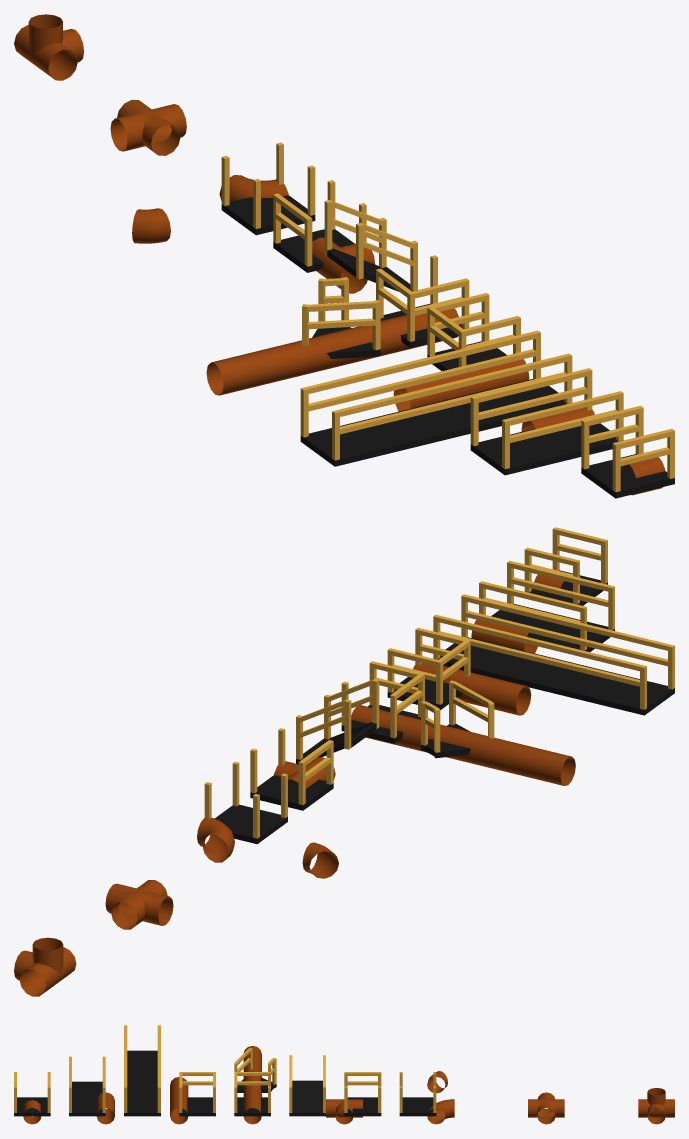
Rendered from ExampleAssets.fbx.
3 views of the same model, one above another, from view 1: azimuth 30°, elevation 25°; view 2: azimuth 150°, elevation 25°; view 3: azimuth 270°, elevation 25° (orthographic). The views are drawn at different scales.
Visible parts, largest first — view 1: Catwalk 4m, Catwalk 2m, Pipe 4m, Catwalk 1m, Catwalk Ramp, Catwalk End, Catwalk Turn 45, Pipe X, Pipe T + Up, Catwalk X, Catwalk Turn 90, Catwalk T (+4 smaller); view 2: Catwalk 4m, Pipe 4m, Catwalk 2m, Catwalk End, Catwalk T, Catwalk Ramp, Catwalk X, Catwalk 1m, Pipe X, Pipe T + Up, Catwalk Turn 90, Catwalk Turn 45 (+5 smaller); view 3: Catwalk 4m, Catwalk Ramp, Catwalk 2m, Catwalk End, Catwalk T, Pipe 4m, Catwalk Turn 90, Pipe T + Up, Catwalk X, Pipe X, Catwalk 1m, Pipe 2m (+6 smaller).
Boxes of the visible parts, bbox=[...] form: Catwalk 4m: bbox=[300, 330, 572, 466]; Catwalk 2m: bbox=[470, 368, 623, 475]; Pipe 4m: bbox=[206, 308, 458, 395]; Catwalk 1m: bbox=[581, 405, 674, 498]; Catwalk Ramp: bbox=[324, 200, 417, 291]; Catwalk End: bbox=[427, 293, 520, 370]; Catwalk Turn 45: bbox=[302, 277, 380, 358]; Pipe X: bbox=[110, 100, 186, 155]; Pipe T + Up: bbox=[14, 14, 83, 80]; Catwalk X: bbox=[221, 142, 315, 235]; Catwalk Turn 90: bbox=[376, 255, 469, 347]; Catwalk T: bbox=[273, 180, 366, 272]; Catwalk 4m: bbox=[433, 594, 674, 715]; Pipe 4m: bbox=[351, 705, 575, 785]; Catwalk 2m: bbox=[479, 560, 614, 651]; Catwalk End: bbox=[387, 627, 470, 709]; Catwalk T: bbox=[250, 728, 333, 810]; Catwalk Ramp: bbox=[296, 679, 379, 764]; Catwalk X: bbox=[204, 761, 287, 844]; Catwalk 1m: bbox=[524, 527, 607, 605]; Pipe X: bbox=[105, 880, 173, 929]; Pipe T + Up: bbox=[14, 937, 76, 996]; Catwalk Turn 90: bbox=[341, 661, 424, 743]; Catwalk Turn 45: bbox=[421, 680, 494, 758]; Catwalk 4m: bbox=[124, 1025, 160, 1116]; Catwalk Ramp: bbox=[289, 1055, 325, 1116]; Catwalk 2m: bbox=[69, 1056, 105, 1116]; Catwalk End: bbox=[179, 1072, 215, 1116]; Catwalk T: bbox=[344, 1072, 381, 1116]; Pipe 4m: bbox=[243, 1046, 261, 1124]; Catwalk Turn 90: bbox=[234, 1072, 270, 1116]; Pipe T + Up: bbox=[638, 1088, 674, 1124]; Catwalk X: bbox=[399, 1072, 436, 1116]; Pipe X: bbox=[528, 1092, 564, 1124]; Catwalk 1m: bbox=[14, 1072, 50, 1116]; Pipe 2m: bbox=[170, 1077, 188, 1124].
Size of the model in its own units: 800 by 322 by 3600.
